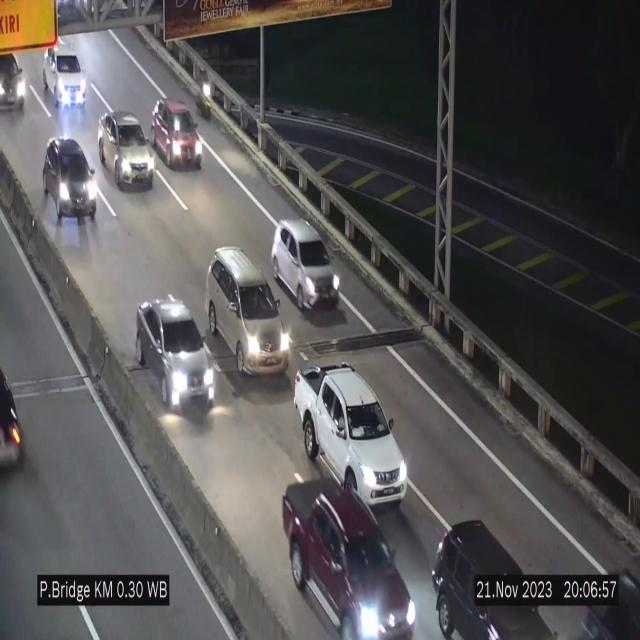Car: (283, 475, 421, 640), (428, 502, 562, 640), (294, 363, 408, 510), (206, 248, 290, 374), (136, 296, 214, 412), (38, 134, 102, 228), (272, 220, 340, 308), (579, 554, 640, 640), (99, 111, 154, 189), (152, 99, 202, 169), (41, 46, 90, 115), (0, 42, 31, 122)
Motorcycle: (196, 63, 212, 124)
